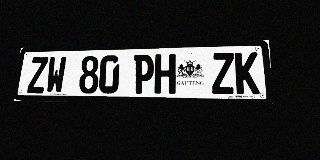0: (98, 55, 120, 94)
8: (78, 56, 100, 93)
H: (154, 54, 176, 94)
K: (235, 52, 260, 94)
P: (133, 54, 154, 94)
W: (45, 56, 67, 93)
Z: (211, 52, 235, 94), (27, 57, 48, 93)
